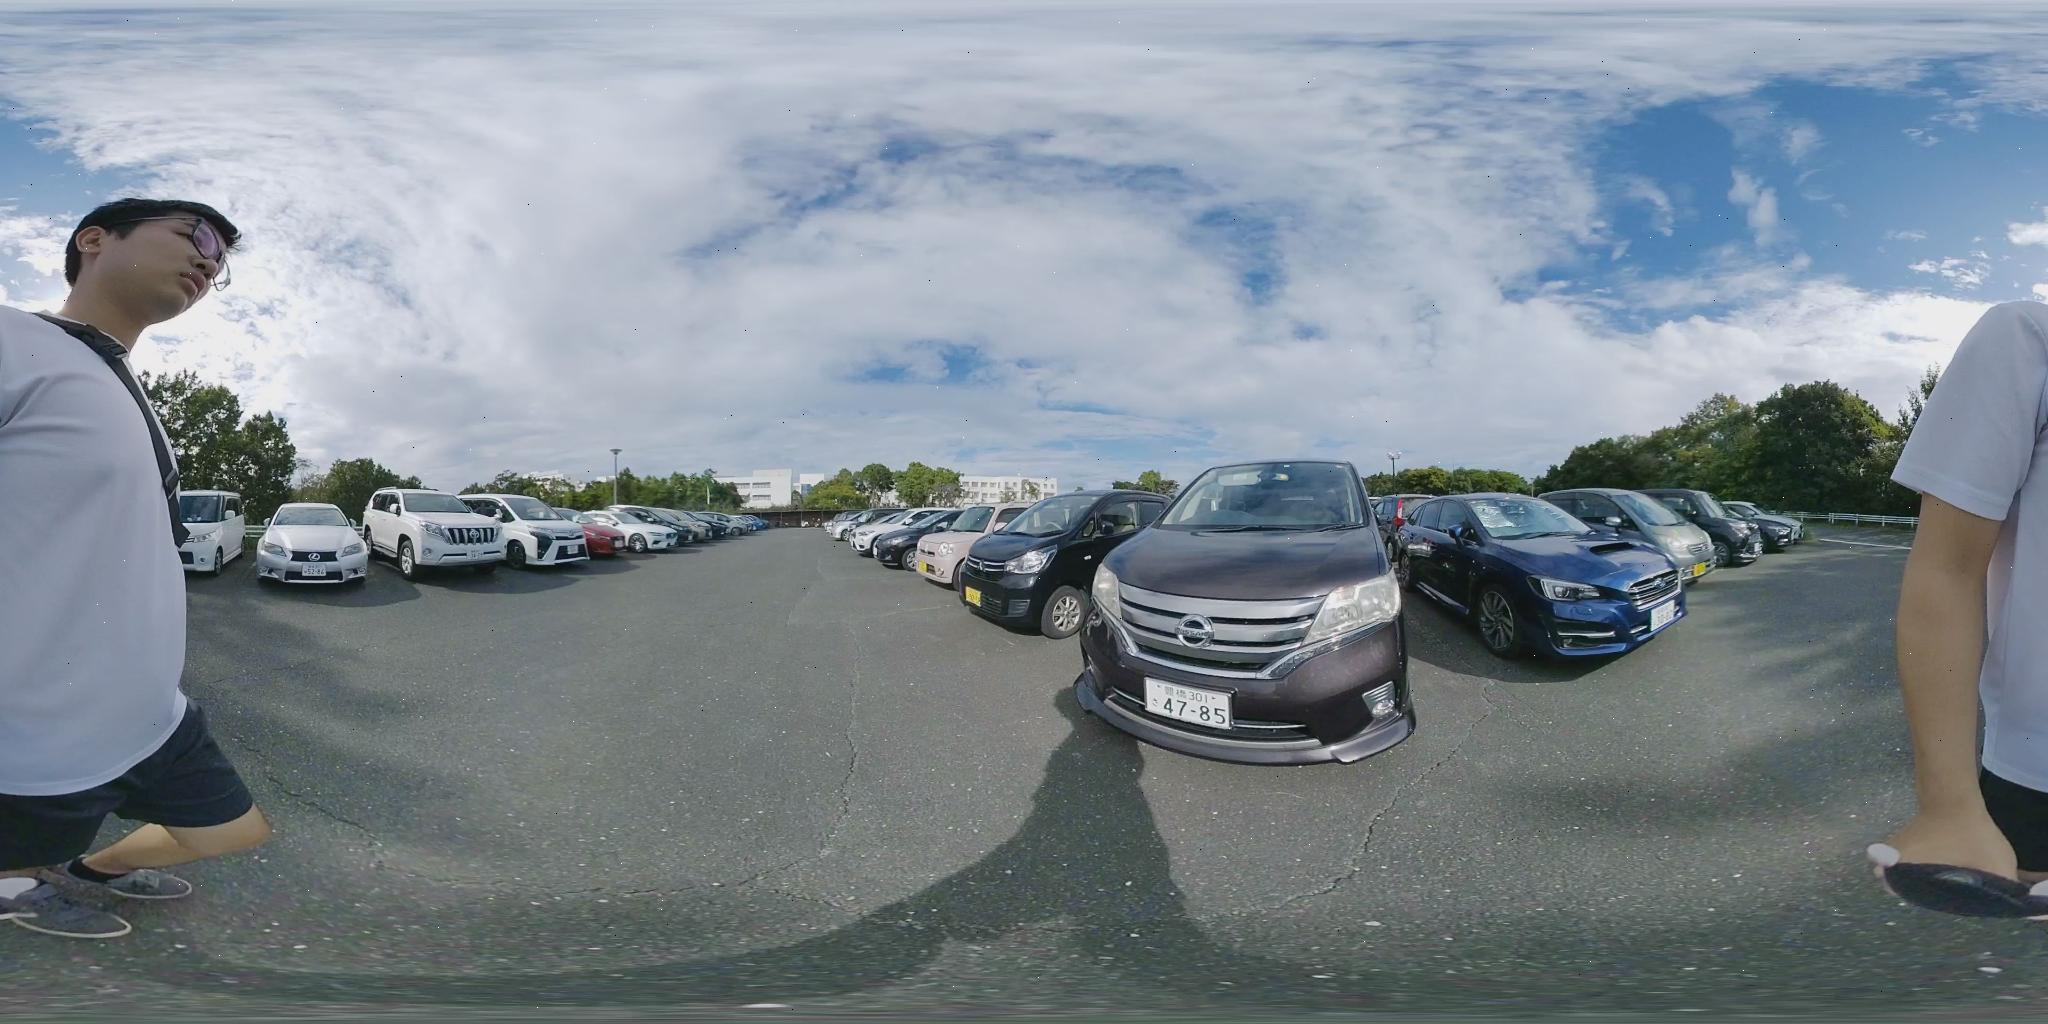car: (1075, 458, 1412, 765), (1388, 492, 1702, 669), (948, 490, 1176, 640), (1533, 487, 1732, 575), (364, 488, 509, 573), (1610, 490, 1763, 568), (895, 504, 1024, 581), (252, 503, 370, 586), (469, 498, 598, 567), (172, 491, 243, 573), (837, 512, 927, 558), (609, 509, 687, 552), (1731, 508, 1801, 550), (577, 511, 637, 556), (704, 515, 764, 539), (683, 509, 737, 537), (728, 517, 771, 537)
